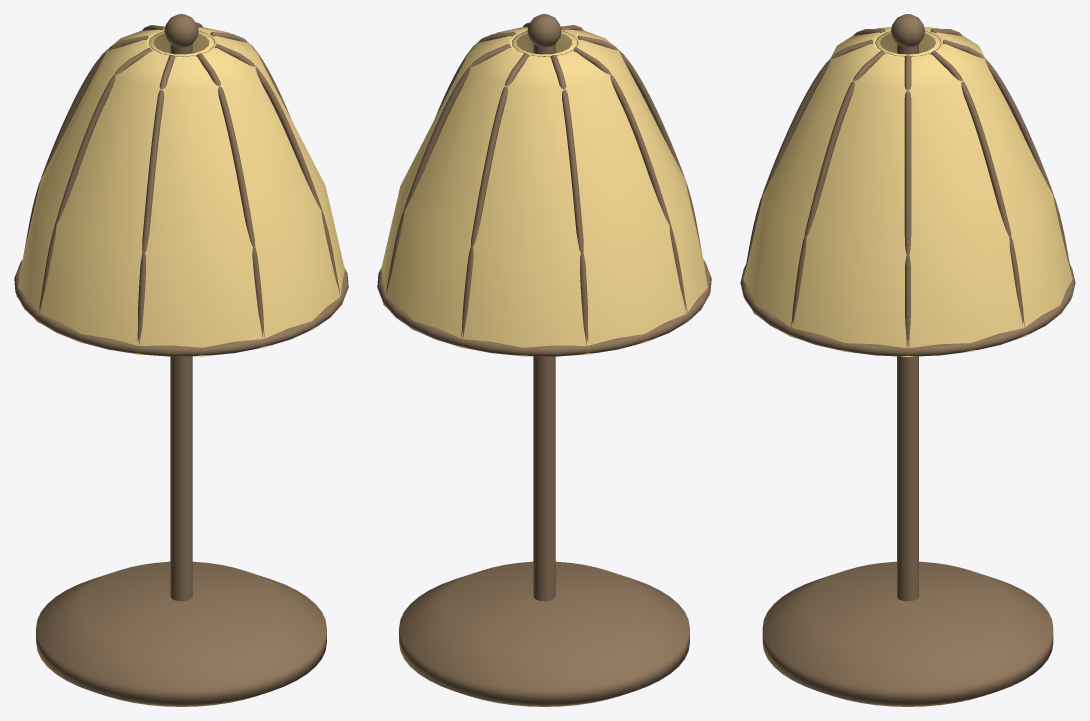
The model's file is tablelamp.glb.
The picture shows the model from 3 angles, left to right: view 1: azimuth 30°, elevation 25°; view 2: azimuth 150°, elevation 25°; view 3: azimuth 270°, elevation 25°; orthographic projection.
Parts seen in each view (by area): view 1: hollow-supported-shade, grounded-weighted-base, continuous-lamp-stem, bound-shade-hem, bronze-pane-leading-3, bronze-pane-leading-2, bronze-pane-leading-4, bronze-pane-leading-1, bronze-pane-leading-5, supported-finial; view 2: hollow-supported-shade, grounded-weighted-base, continuous-lamp-stem, bound-shade-hem, bronze-pane-leading-5, bronze-pane-leading-6, bronze-pane-leading-4, bronze-pane-leading-7, bronze-pane-leading-3, supported-finial; view 3: hollow-supported-shade, grounded-weighted-base, continuous-lamp-stem, bound-shade-hem, bronze-pane-leading-0, bronze-pane-leading-1, bronze-pane-leading-7, bronze-pane-leading-2, bronze-pane-leading-6, supported-finial.
Part boxes in pixels (box(x1,y1,x2,y2)): hollow-supported-shade: box(16, 27, 344, 356); grounded-weighted-base: box(36, 561, 326, 706); continuous-lamp-stem: box(170, 44, 192, 601); bound-shade-hem: box(14, 260, 348, 356); bronze-pane-leading-3: box(137, 55, 175, 345); bronze-pane-leading-2: box(196, 53, 264, 338); bronze-pane-leading-4: box(38, 47, 152, 313); bronze-pane-leading-1: box(214, 43, 340, 296); bronze-pane-leading-5: box(23, 35, 148, 253); supported-finial: box(164, 14, 198, 47); hollow-supported-shade: box(381, 27, 709, 356); grounded-weighted-base: box(399, 561, 689, 706); continuous-lamp-stem: box(533, 44, 555, 601); bound-shade-hem: box(377, 260, 711, 356); bronze-pane-leading-5: box(550, 55, 588, 345); bronze-pane-leading-6: box(461, 53, 529, 338); bronze-pane-leading-4: box(573, 47, 687, 313); bronze-pane-leading-7: box(385, 43, 511, 296); bronze-pane-leading-3: box(577, 35, 702, 253); supported-finial: box(527, 14, 561, 47); hollow-supported-shade: box(743, 27, 1072, 357); grounded-weighted-base: box(762, 561, 1053, 706); continuous-lamp-stem: box(897, 44, 918, 601); bound-shade-hem: box(740, 265, 1075, 356); bronze-pane-leading-0: box(904, 55, 911, 347); bronze-pane-leading-1: box(791, 50, 885, 327); bronze-pane-leading-7: box(930, 50, 1024, 327); bronze-pane-leading-2: box(743, 39, 872, 278); bronze-pane-leading-6: box(943, 39, 1072, 278); supported-finial: box(891, 14, 924, 47).
Size of the model in its own units: 0.392 by 0.825 by 0.392.
